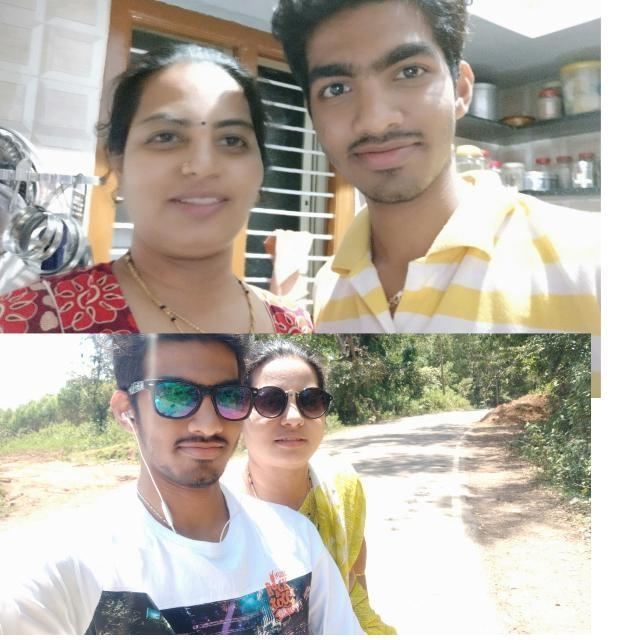person: (256, 0, 602, 342), (5, 326, 281, 640), (45, 48, 279, 332), (248, 326, 382, 612)
